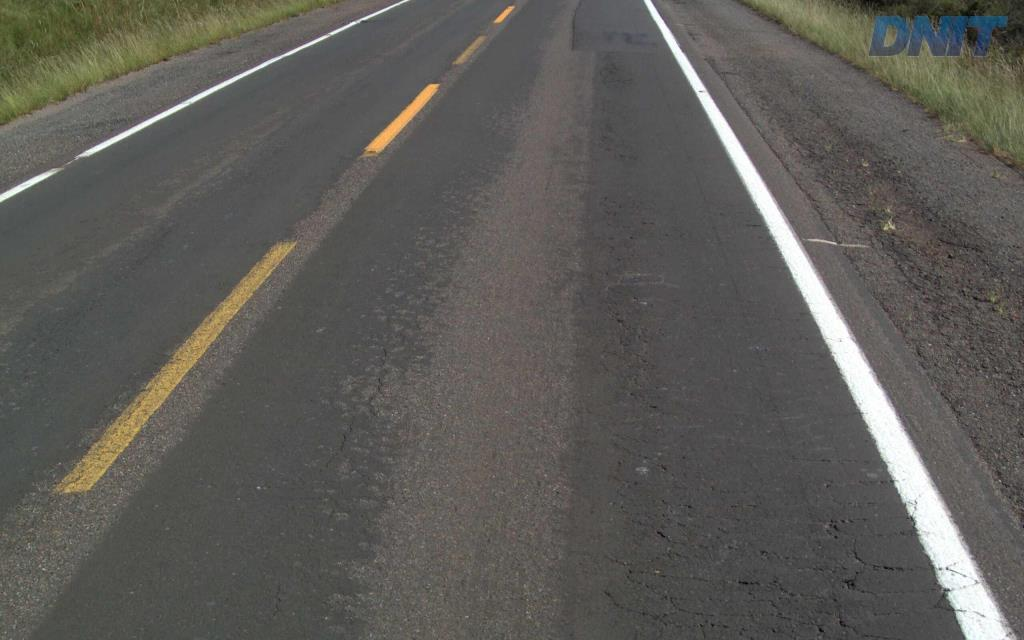crack: (747, 592, 859, 639)
